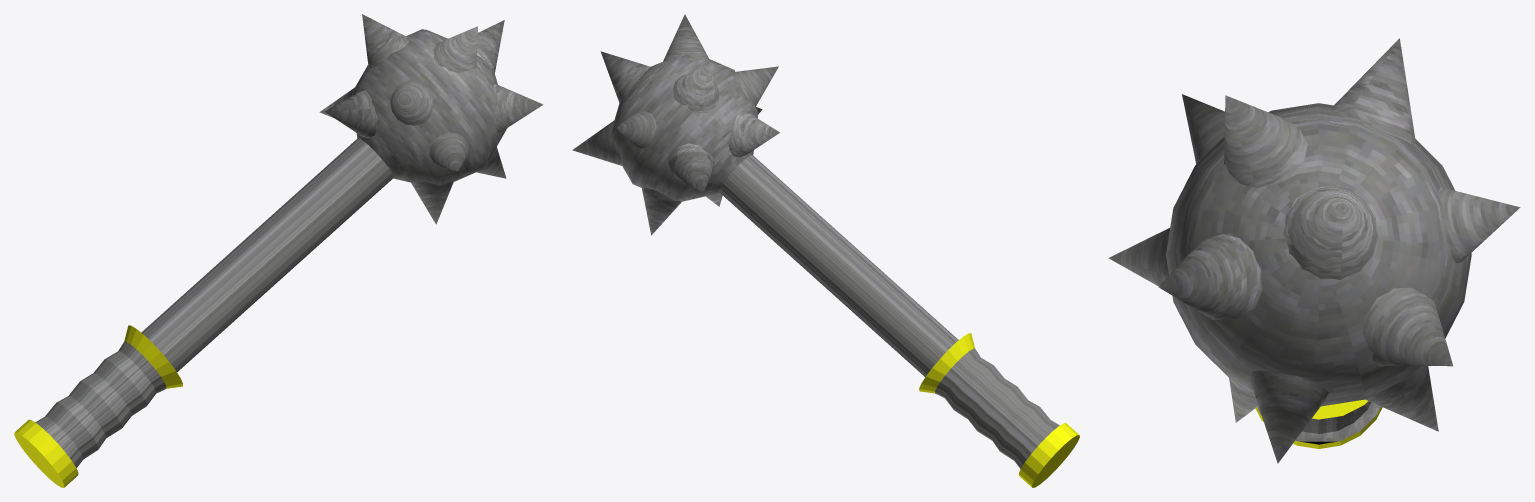
File: mack_Mace.fbx
The picture shows the model from 3 angles, left to right: view 1: azimuth 30°, elevation 25°; view 2: azimuth 150°, elevation 25°; view 3: azimuth 270°, elevation 25°; orthographic projection. The views are drawn at different scales.
Visible parts, largest first — view 1: mace_Base, mace_Head, mace_Point6, mace_Point11, mace_Point2, mace_Point7, mace_Point3, mace_Point8, mace_Point12, mace_Point1; view 2: mace_Base, mace_Head, mace_Point7, mace_Point10, mace_Point11, mace_Point1, mace_Point4, mace_Point5, mace_Point2, mace_Point6, mace_Point13; view 3: mace_Head, mace_Point1, mace_Point3, mace_Point2, mace_Point4, mace_Point7, mace_Point9, mace_Point5, mace_Base, mace_Point13, mace_Point8, mace_Point6 (+1 smaller).
Part boxes in pixels (left/top/right/bottom): mace_Base: left=14, top=138, right=393, bottom=487; mace_Head: left=352, top=29, right=507, bottom=185; mace_Point6: left=390, top=81, right=432, bottom=125; mace_Point11: left=325, top=90, right=377, bottom=138; mace_Point2: left=433, top=26, right=477, bottom=72; mace_Point7: left=362, top=14, right=409, bottom=68; mace_Point3: left=493, top=84, right=543, bottom=132; mace_Point8: left=429, top=132, right=469, bottom=171; mace_Point12: left=411, top=181, right=453, bottom=224; mace_Point1: left=477, top=20, right=504, bottom=73; mace_Base: left=718, top=155, right=1079, bottom=487; mace_Head: left=610, top=53, right=758, bottom=201; mace_Point7: left=673, top=66, right=719, bottom=112; mace_Point10: left=668, top=143, right=714, bottom=192; mace_Point11: left=728, top=112, right=779, bottom=157; mace_Point1: left=600, top=51, right=650, bottom=102; mace_Point4: left=572, top=120, right=622, bottom=166; mace_Point5: left=616, top=111, right=656, bottom=148; mace_Point2: left=663, top=14, right=709, bottom=61; mace_Point6: left=734, top=66, right=778, bottom=106; mace_Point13: left=642, top=187, right=681, bottom=235; mace_Head: left=1166, top=103, right=1471, bottom=406; mace_Point1: left=1283, top=185, right=1378, bottom=279; mace_Point3: left=1158, top=234, right=1262, bottom=320; mace_Point2: left=1224, top=95, right=1307, bottom=187; mace_Point4: left=1362, top=287, right=1452, bottom=366; mace_Point7: left=1331, top=38, right=1415, bottom=143; mace_Point9: left=1249, top=370, right=1328, bottom=463; mace_Point5: left=1438, top=187, right=1520, bottom=263; mace_Base: left=1255, top=399, right=1382, bottom=448; mace_Point13: left=1365, top=366, right=1438, bottom=431; mace_Point8: left=1108, top=228, right=1169, bottom=286; mace_Point6: left=1182, top=94, right=1224, bottom=164.
Size of the model in its own units: 17.31 by 12.81 by 6.62.
